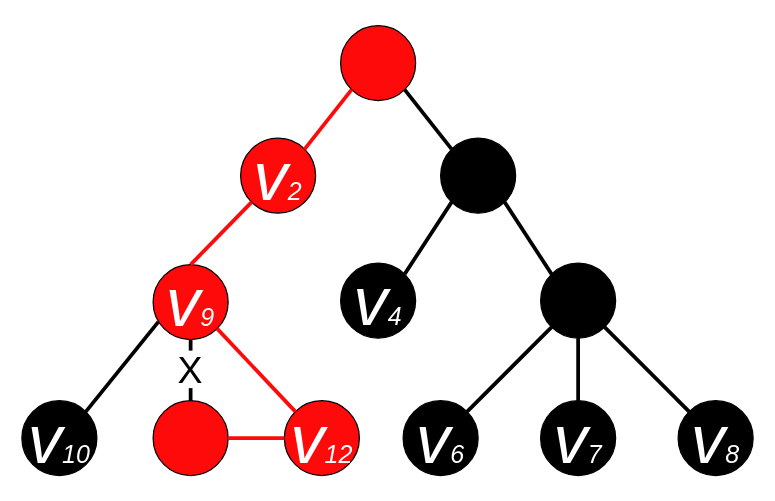
This 775x501 diagram has some shape labels left out. Here are the shapes that lost their labels. From the top down, the centre of each, then its label:
[377,62]: v 1
[477,175]: v 3
[577,300]: v 5
[190,437]: v 11
